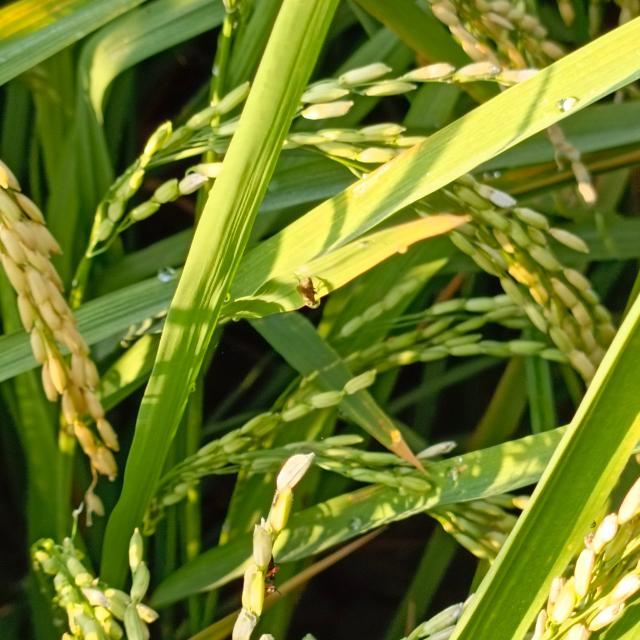Brown spot: (369, 416, 433, 478), (0, 0, 73, 52)
Leaf scald: (250, 545, 292, 608), (289, 271, 333, 316)
